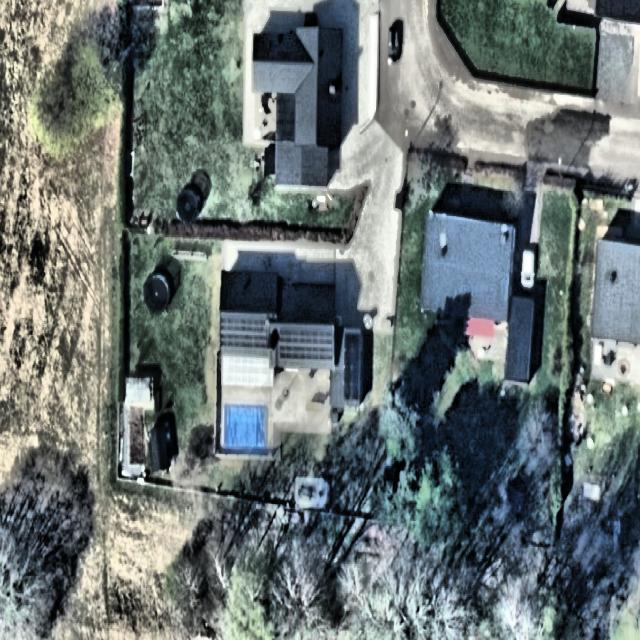roof_pv: (279, 327, 335, 363), (219, 314, 269, 350)
